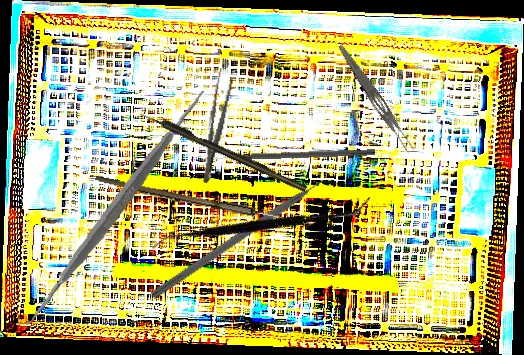Chopper: (149, 169, 344, 310)
Dressing Forceps: (332, 42, 418, 156), (197, 67, 235, 185)
Hook Surgical: (139, 108, 308, 194), (214, 147, 376, 161)
Spatula Surgical: (0, 90, 231, 325), (149, 116, 373, 331)
Surgical Spoon: (94, 175, 314, 229)
